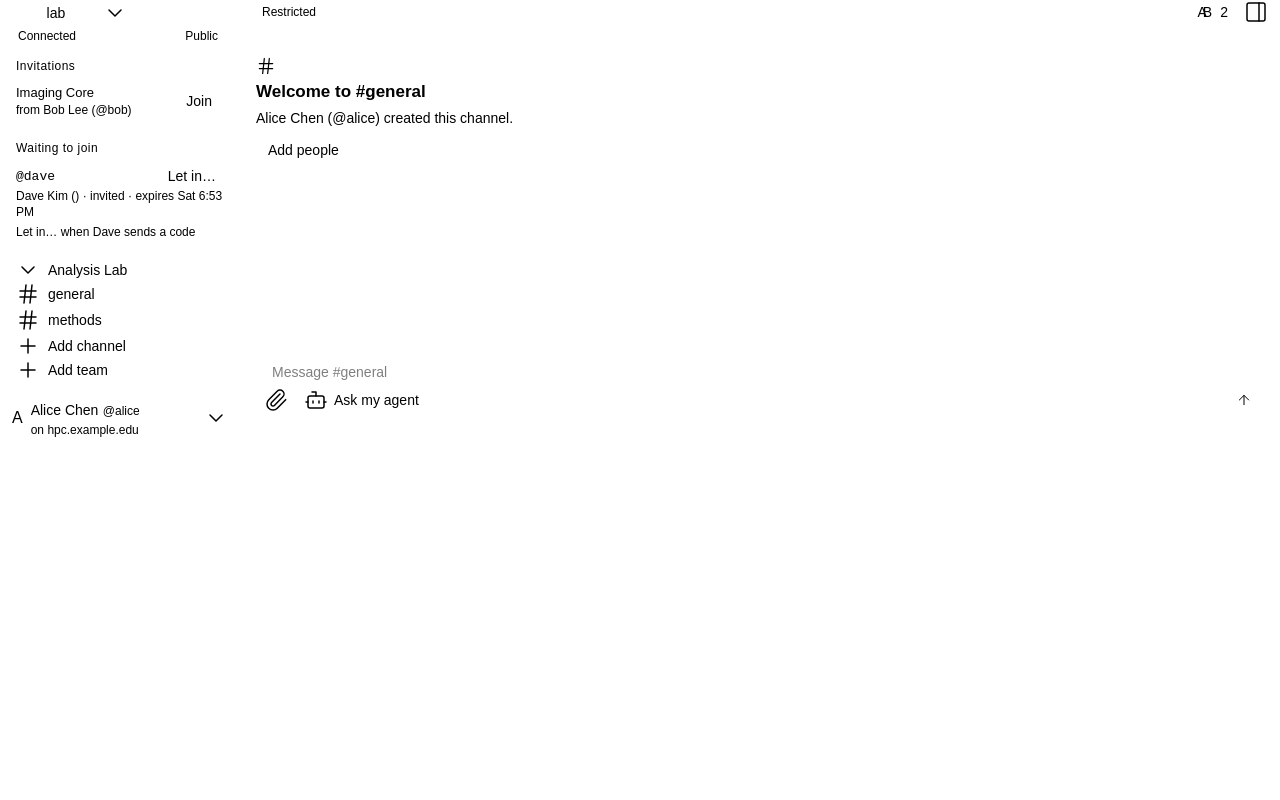
Test: privacy changes: exposing asks first, the reverse is one click › makes a Public connection Private in one click, with no confirmation
Click the button with aria-label "Privacy: Public" at (202,36), box top-left (175, 26), bottom-right (228, 46)
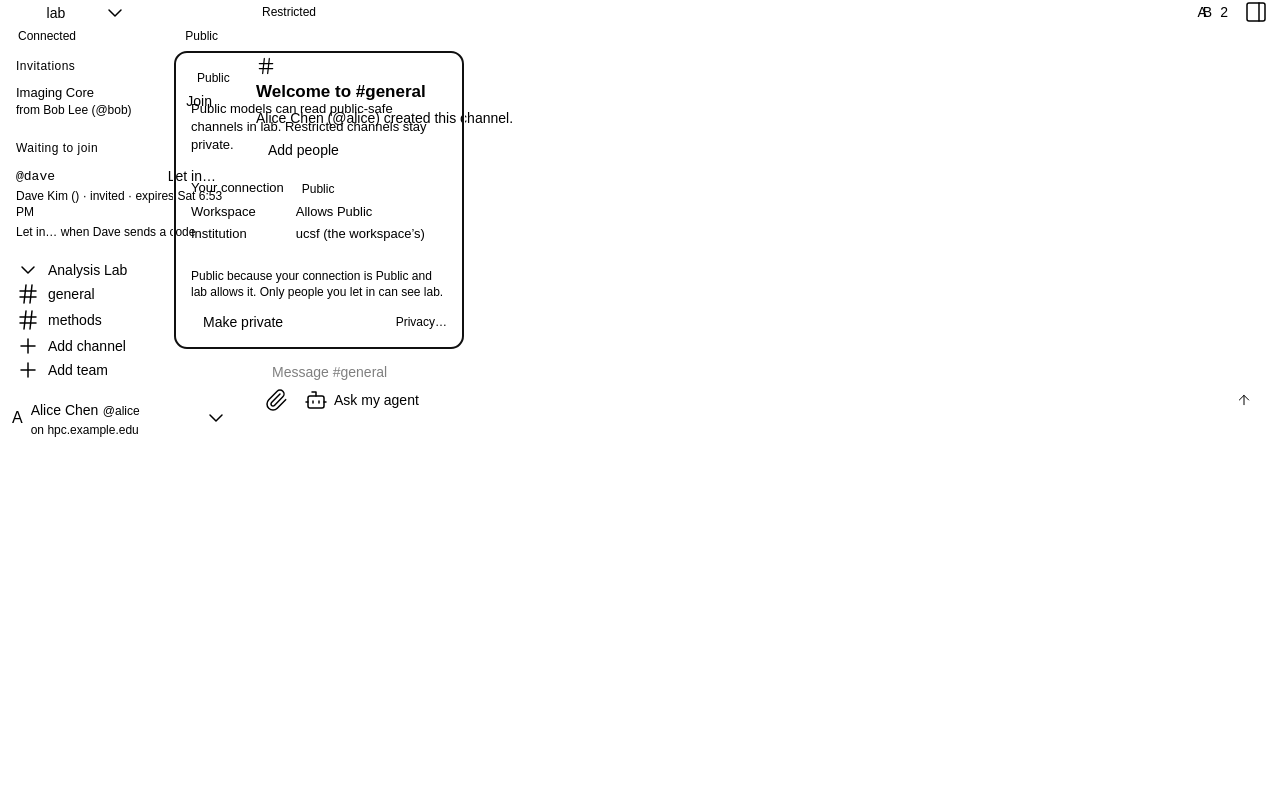
Click the button "Make private" at (243,322), box top-left (191, 312), bottom-right (295, 332)
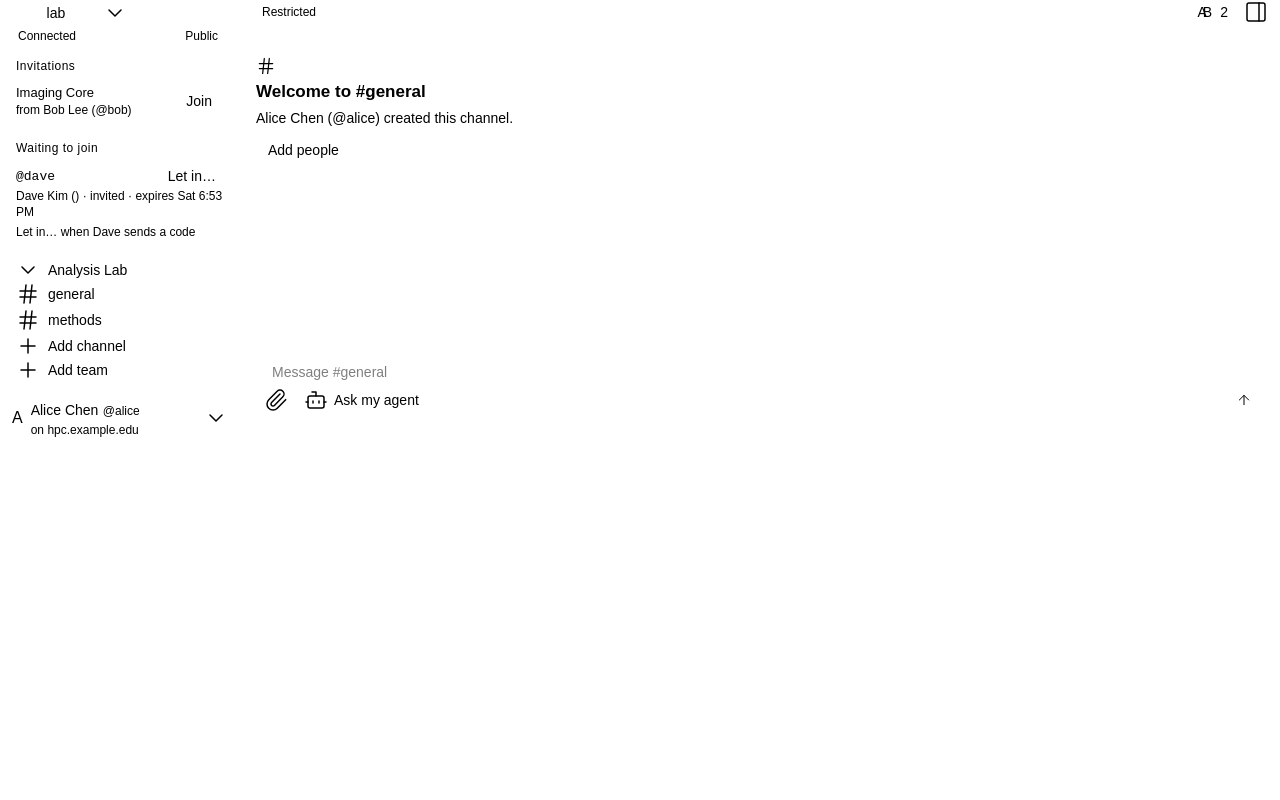
Check: the dialog is gone
